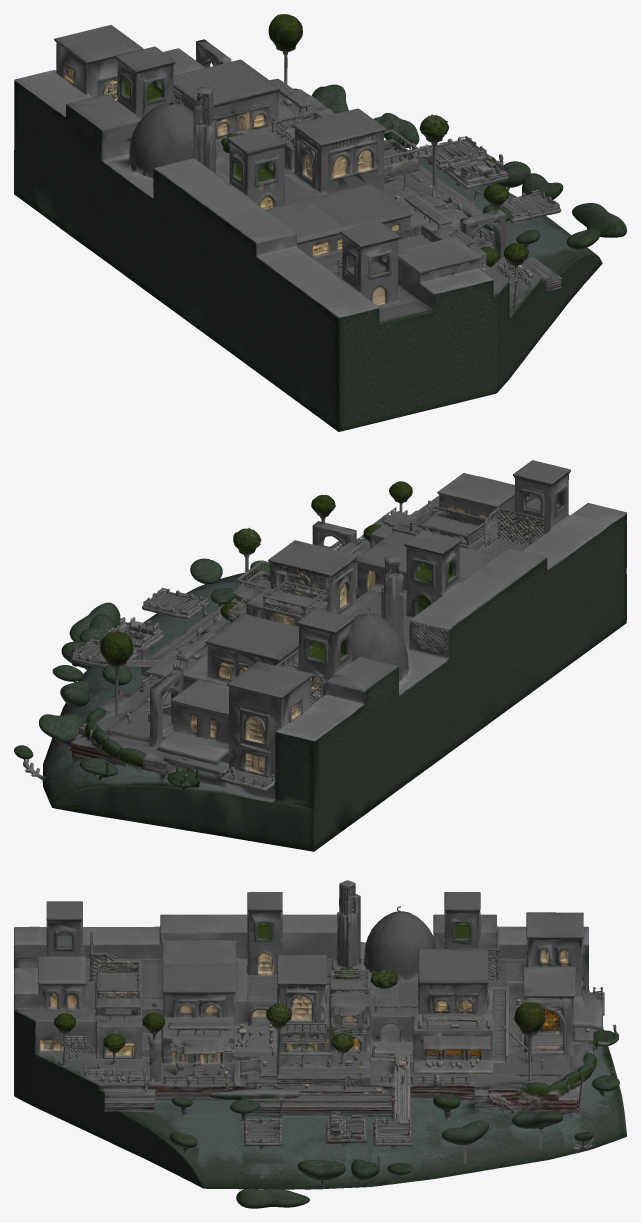
The model's file is diorama.glb.
3 renders of one model, top to bottom at view 1: azimuth 30°, elevation 25°; view 2: azimuth 150°, elevation 25°; view 3: azimuth 270°, elevation 25°, orthographic. The views are drawn at different scales.
Visible parts, largest first — view 1: tripo_node_d4d403ca-c68f-4391-b229-f40cb69f2f81; view 2: tripo_node_d4d403ca-c68f-4391-b229-f40cb69f2f81; view 3: tripo_node_d4d403ca-c68f-4391-b229-f40cb69f2f81.
Boxes of the visible parts, x1,y1,x2,y2 form: tripo_node_d4d403ca-c68f-4391-b229-f40cb69f2f81: [14, 14, 626, 431]; tripo_node_d4d403ca-c68f-4391-b229-f40cb69f2f81: [14, 460, 626, 851]; tripo_node_d4d403ca-c68f-4391-b229-f40cb69f2f81: [14, 880, 626, 1208].
Size of the model in its own units: 57.43 by 25 by 81.78.
Materials: 1 (1 with a texture image).
